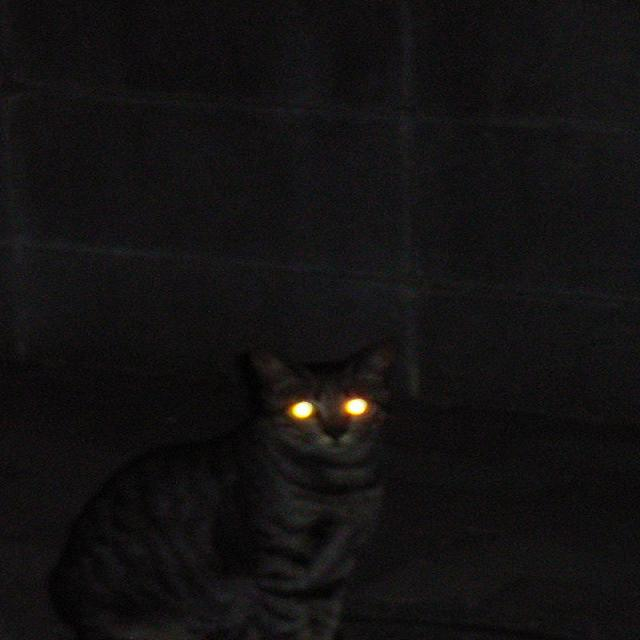Cat: (36, 330, 453, 640)
